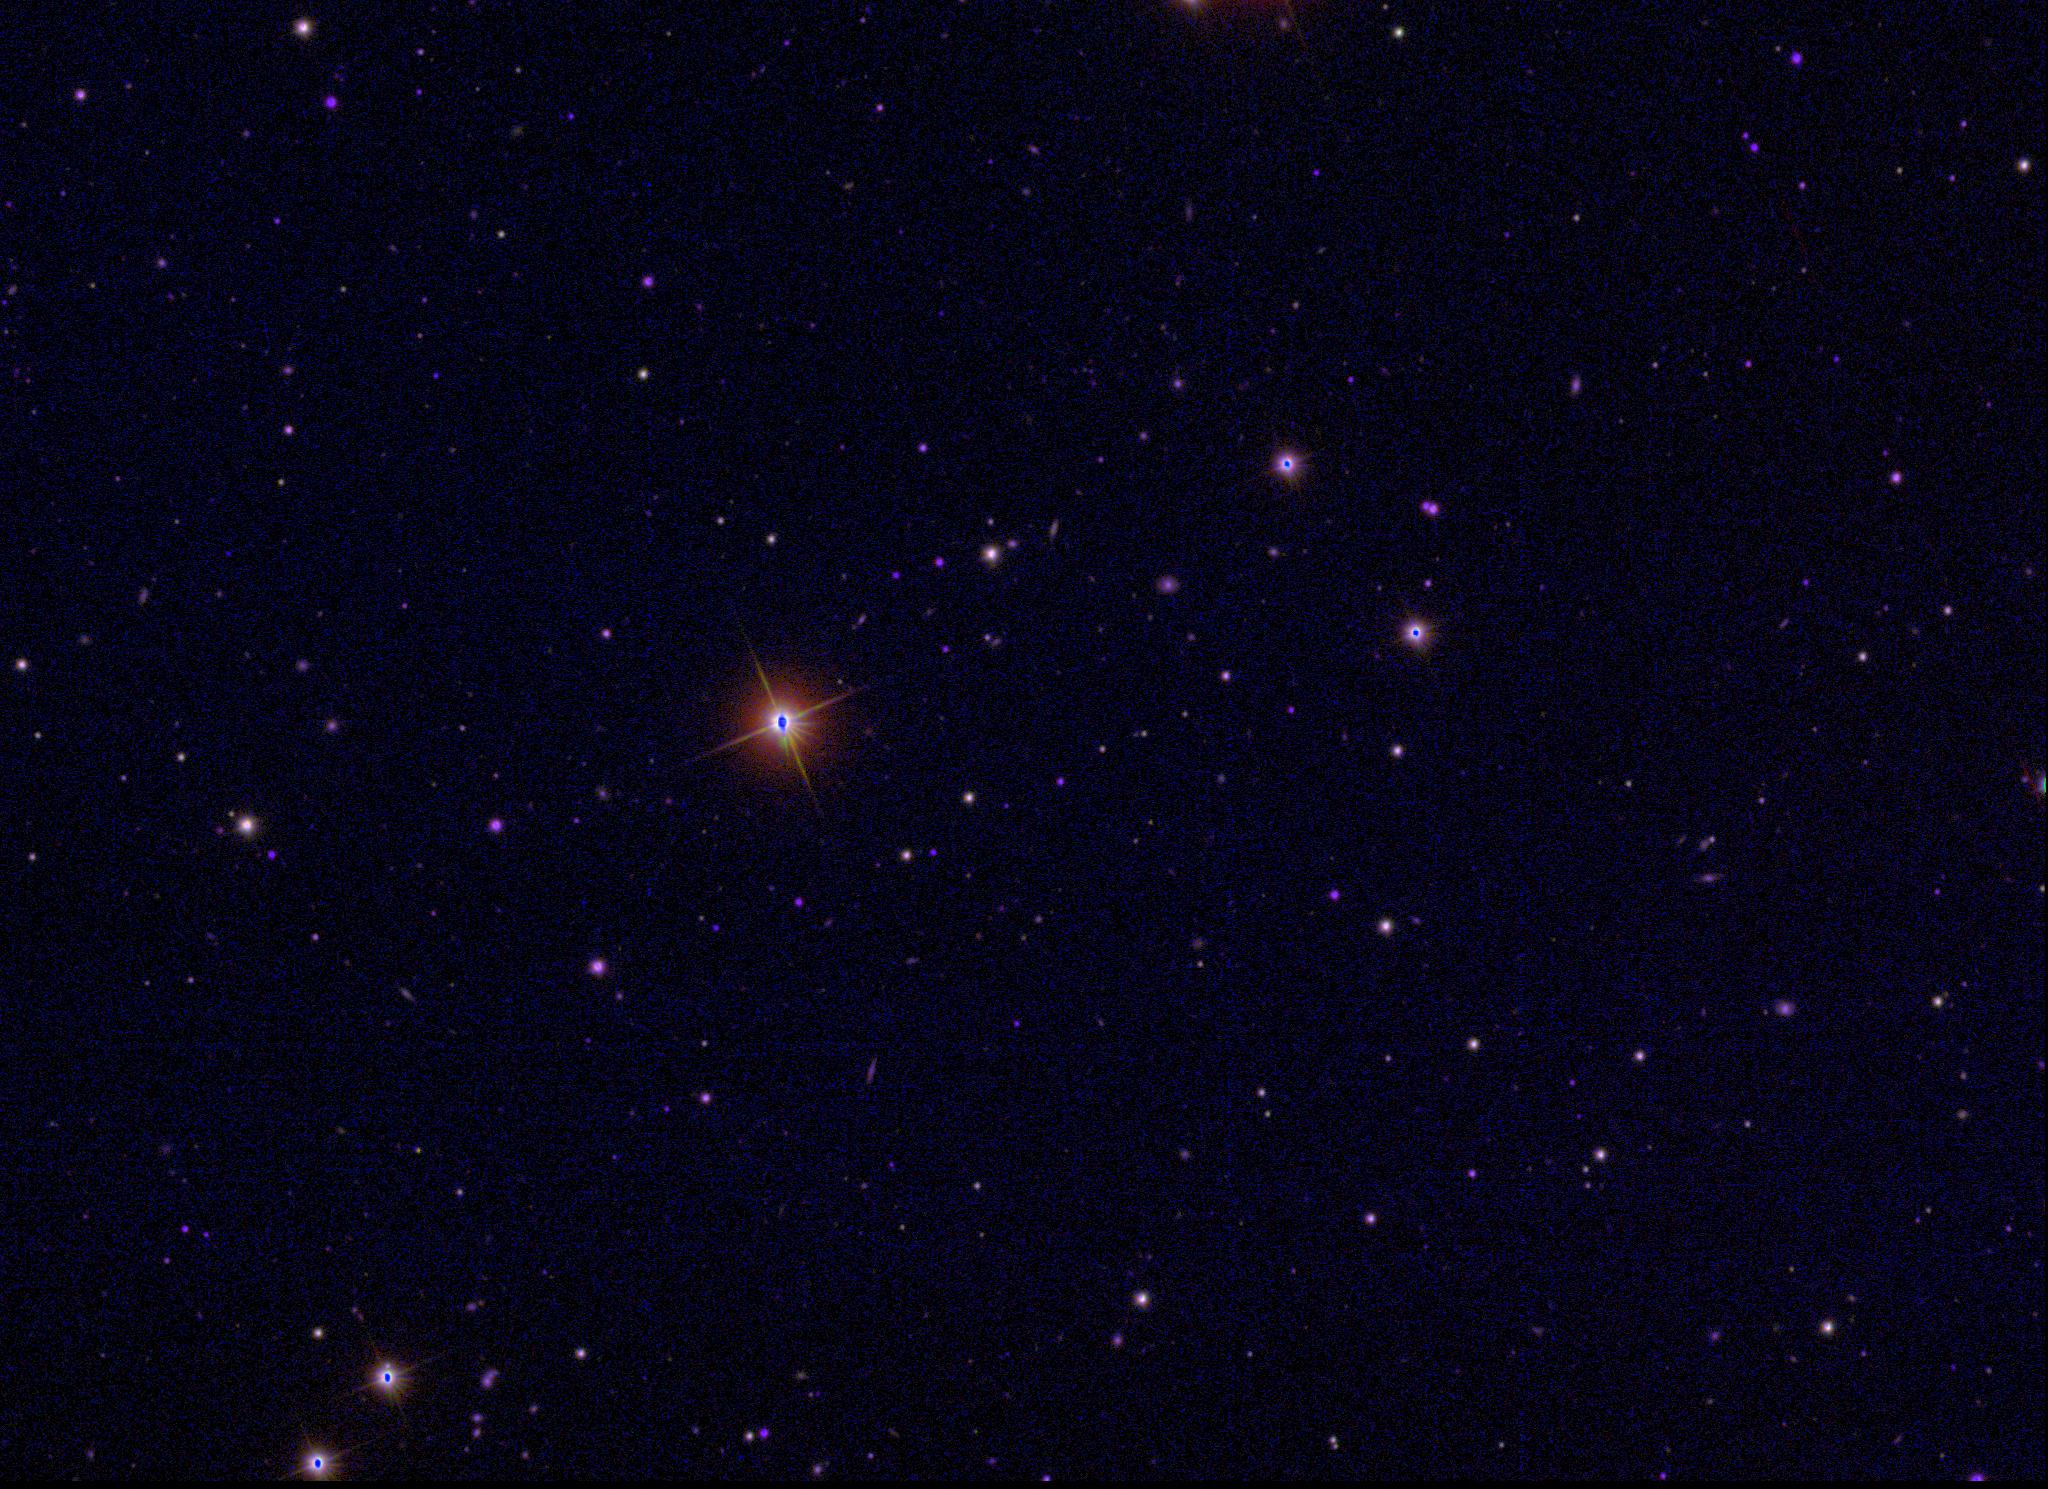L: (223, 546, 235, 560)
